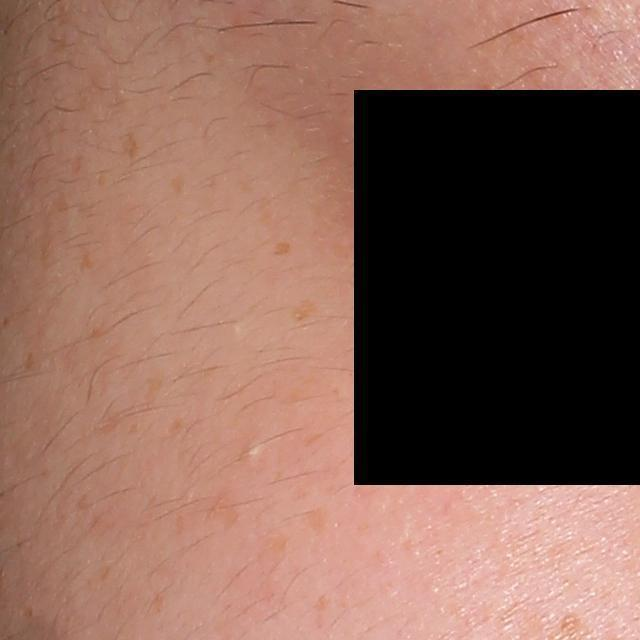comedo: (243, 443, 261, 463)
melasma: (204, 483, 244, 529), (254, 526, 293, 568), (143, 371, 169, 410), (120, 125, 140, 164), (303, 505, 326, 535), (68, 149, 87, 179), (291, 300, 319, 320), (163, 413, 185, 437), (76, 248, 97, 272), (90, 320, 114, 338), (300, 429, 324, 447), (166, 172, 188, 191), (272, 241, 295, 257)
